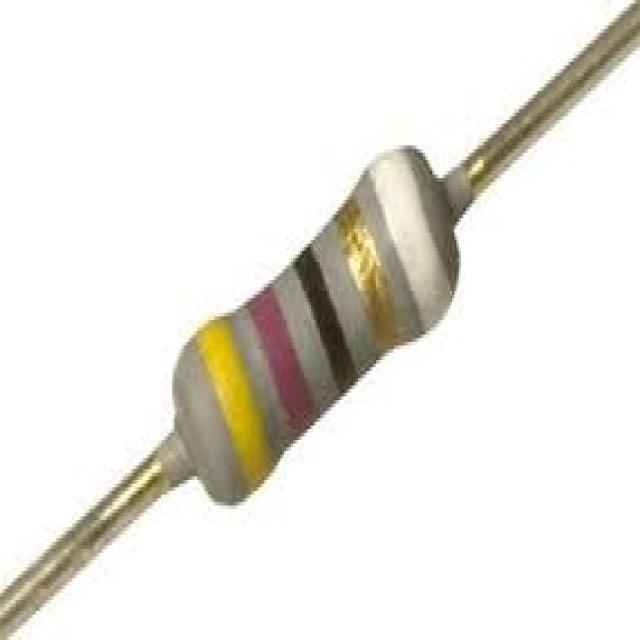Resistor: (171, 151, 455, 500)
